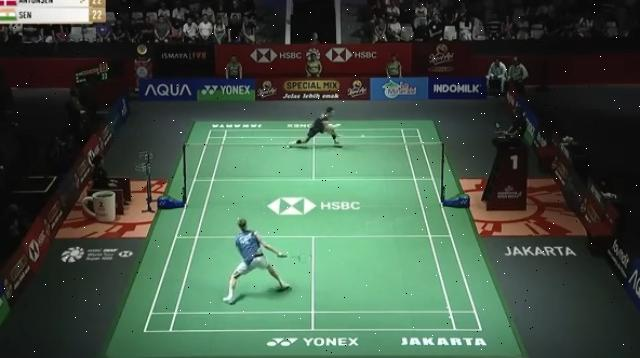Shuttlecock: (358, 132, 370, 140)
